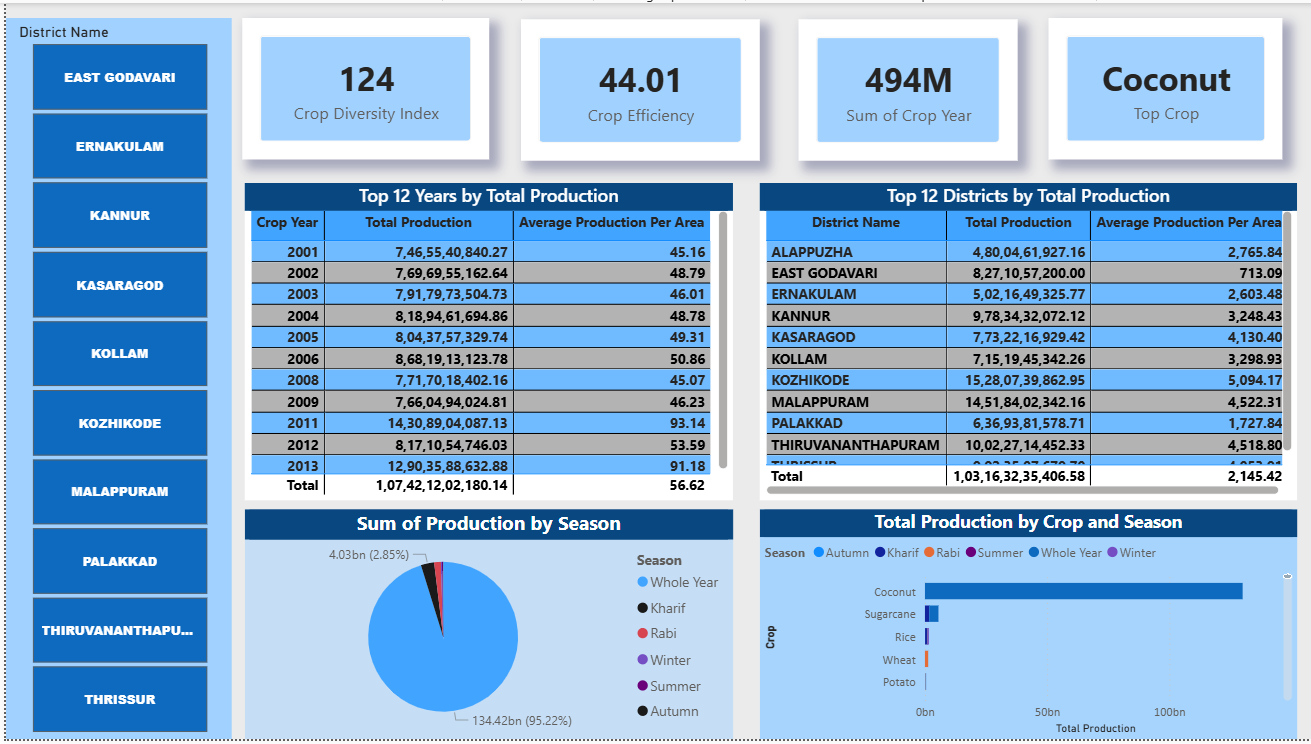

This screenshot's page, from the dashboard's own definition file:
{"tool":"powerbi","page":{"name":"Production Insights","canvas":[1280,720],"ordinal":1},"visuals":[{"type":"cardVisual","fields":{"Data":["Crop Production.Crop Diversity Index"]},"box":[230.5,15.1,241.5,138.6],"z":0},{"type":"cardVisual","fields":{"Data":["Crop Production.Crop Efficiency"]},"box":[503.6,16.5,233.3,138.6],"z":1000},{"type":"cardVisual","fields":{"Data":["Crop Production.Top Crop"]},"box":[1019.6,15.1,229.2,138.6],"z":2000},{"type":"cardVisual","fields":{"Data":["Sum(Crop Production.Crop Year)"]},"box":[775.3,16.5,214.1,138.6],"z":3000},{"type":"tableEx","title":"Top 12 Districts by Total Production","fields":{"Values":["Crop Production.District Name","Crop Production.Total Production","Crop Production.Average Production Per Area"]},"box":[736.9,175.6,525.6,310.1],"z":4000},{"type":"tableEx","title":"Top 12 Years by Total Production","fields":{"Values":["Crop Production.Crop Year","Crop Production.Total Production","Crop Production.Average Production Per Area"]},"box":[233.3,175.6,477.5,310.1],"z":5000},{"type":"barChart","fields":{"Y":["Crop Production.Total Production"],"Category":["Crop Production.Crop"],"Series":["Crop Production.Season"]},"box":[736.9,495.4,525.6,225],"z":6000},{"type":"pieChart","fields":{"Category":["Crop Production.Season"],"Y":["Sum(Crop Production.Production)"]},"box":[233.3,495.4,477.5,225],"z":7000},{"type":"slicer","fields":{"Values":["Crop Production.District Name"]},"box":[0,15.1,220.9,705.3],"z":8000}]}

Visuals, with their boxes in screenshot pixels (x1, y1, x2, y2), scaled from the page's 1280x720 canvas onto the 1311x744 screenshot:
cardVisual - Crop Production.Crop Diversity Index: rect(236, 16, 483, 159)
cardVisual - Crop Production.Crop Efficiency: rect(516, 17, 755, 160)
cardVisual - Crop Production.Top Crop: rect(1044, 16, 1279, 159)
cardVisual - Sum(Crop Production.Crop Year): rect(794, 17, 1013, 160)
"Top 12 Districts by Total Production" tableEx: rect(755, 181, 1293, 502)
"Top 12 Years by Total Production" tableEx: rect(239, 181, 728, 502)
barChart - Crop Production.Total Production x Crop Production.Crop: rect(755, 512, 1293, 743)
pieChart - Crop Production.Season x Sum(Crop Production.Production): rect(239, 512, 728, 743)
slicer - Crop Production.District Name: rect(0, 16, 226, 743)
